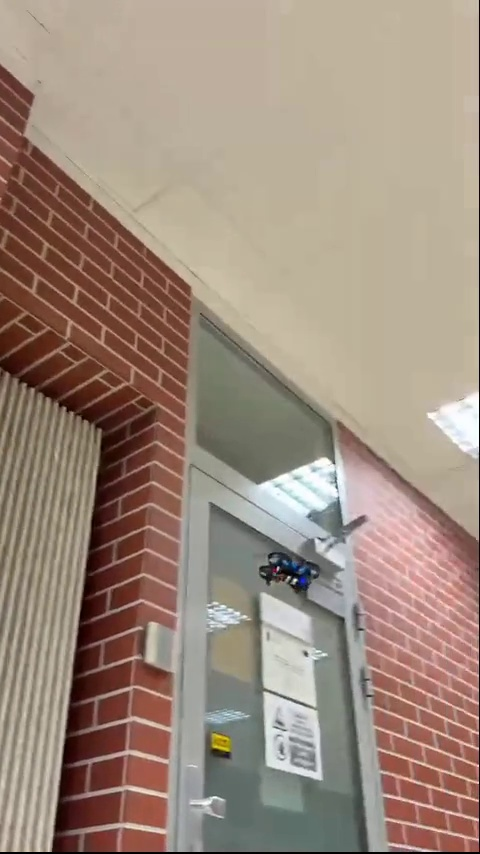drone: (258, 550, 313, 589)
